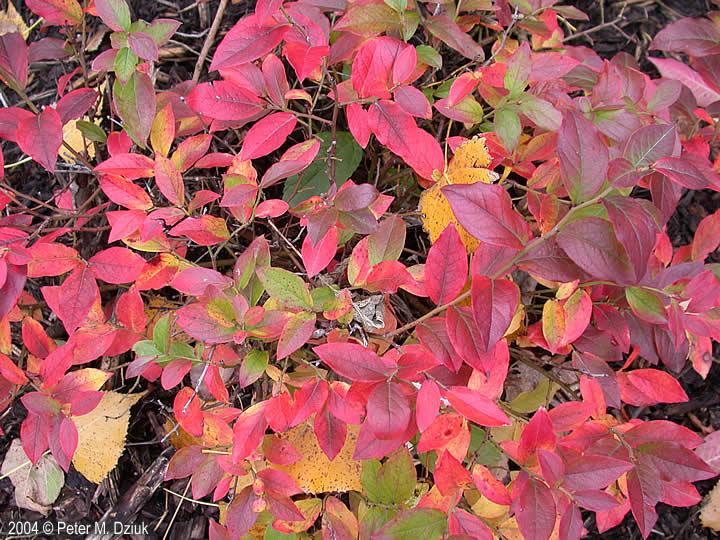Blueberry leaf: (318, 341, 452, 459), (291, 192, 415, 306), (21, 236, 150, 345), (543, 211, 657, 305), (440, 184, 535, 255), (556, 103, 611, 221), (358, 96, 431, 173), (467, 262, 523, 353), (416, 222, 473, 310)
